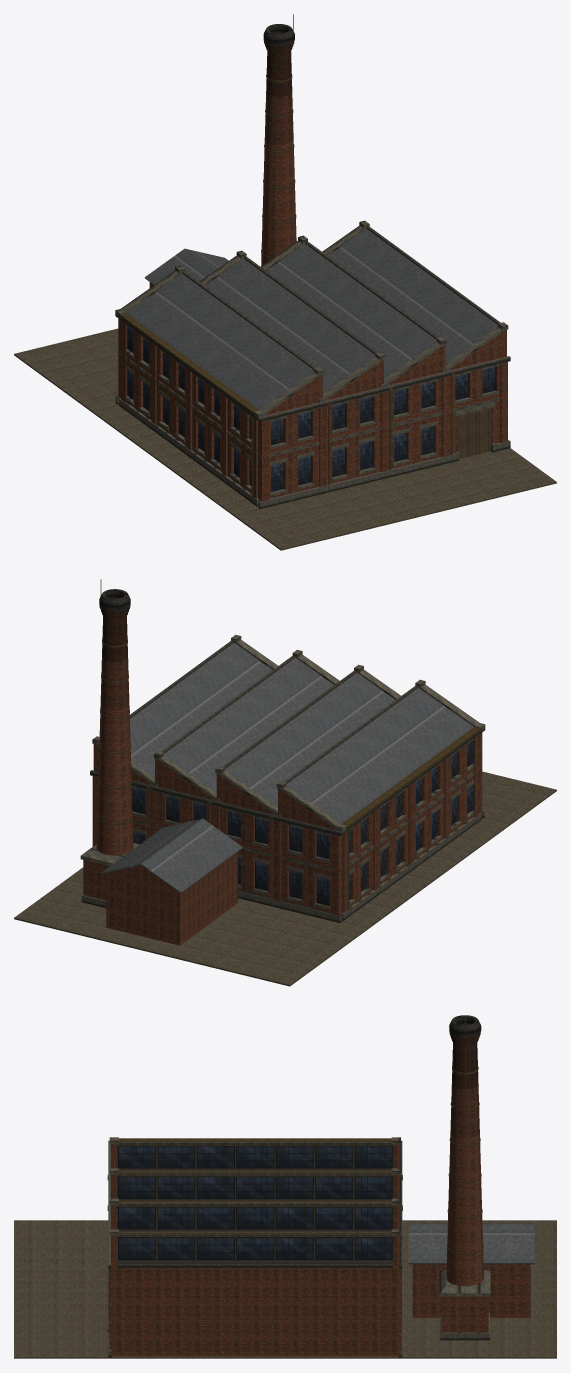
Rendered from no-1-quiet-factory.glb.
3 renders of one model, top to bottom at view 1: azimuth 30°, elevation 25°; view 2: azimuth 150°, elevation 25°; view 3: azimuth 270°, elevation 25°, orthographic.
Visible parts, largest first — view 1: no-1-mill-roof, no-1-mill-walls, no-1-yard-setts, no-1-mill-stonework, no-1-chimney, no-1-mill-ironwork, no-1-boiler-house-building, no-1-loading-door-right, no-1-loading-door-left; view 2: no-1-mill-roof, no-1-yard-setts, no-1-mill-walls, no-1-boiler-house-building, no-1-mill-stonework, no-1-chimney, no-1-mill-ironwork; view 3: no-1-mill-walls, no-1-yard-setts, no-1-chimney, no-1-boiler-house-building, no-1-mill-roof, no-1-mill-ironwork, no-1-mill-stonework, no-1-north-light-4-panel-7, no-1-north-light-4-panel-5, no-1-north-light-4-panel-4, no-1-north-light-4-panel-2, no-1-north-light-2-panel-4 (+23 smaller).
Part boxes in pixels (x1=…): no-1-mill-roof: x1=127, y1=226, x2=500, y2=409; no-1-mill-walls: x1=118, y1=318, x2=507, y2=501; no-1-yard-setts: x1=14, y1=328, x2=556, y2=550; no-1-mill-stonework: x1=115, y1=220, x2=510, y2=508; no-1-chimney: x1=261, y1=14, x2=296, y2=266; no-1-mill-ironwork: x1=119, y1=313, x2=454, y2=495; no-1-boiler-house-building: x1=144, y1=248, x2=228, y2=287; no-1-loading-door-right: x1=474, y1=407, x2=491, y2=454; no-1-loading-door-left: x1=458, y1=412, x2=474, y2=458; no-1-mill-roof: x1=129, y1=640, x2=473, y2=823; no-1-yard-setts: x1=14, y1=771, x2=556, y2=986; no-1-mill-walls: x1=92, y1=732, x2=482, y2=915; no-1-boiler-house-building: x1=101, y1=818, x2=242, y2=945; no-1-mill-stonework: x1=90, y1=634, x2=485, y2=922; no-1-chimney: x1=80, y1=579, x2=139, y2=907; no-1-mill-ironwork: x1=146, y1=727, x2=481, y2=909; no-1-mill-walls: x1=109, y1=1144, x2=401, y2=1356; no-1-yard-setts: x1=14, y1=1220, x2=556, y2=1358; no-1-chimney: x1=439, y1=1015, x2=490, y2=1340; no-1-boiler-house-building: x1=408, y1=1223, x2=534, y2=1317; no-1-mill-roof: x1=117, y1=1141, x2=393, y2=1263; no-1-mill-ironwork: x1=107, y1=1138, x2=402, y2=1321; no-1-mill-stonework: x1=107, y1=1137, x2=402, y2=1357; no-1-north-light-4-panel-7: x1=354, y1=1237, x2=392, y2=1260; no-1-north-light-4-panel-5: x1=275, y1=1237, x2=313, y2=1260; no-1-north-light-4-panel-4: x1=236, y1=1237, x2=274, y2=1260; no-1-north-light-4-panel-2: x1=157, y1=1237, x2=195, y2=1260; no-1-north-light-2-panel-4: x1=236, y1=1176, x2=274, y2=1199.
Size of the model in its own units: 24.7 by 27.1 by 41.4.
17 materials, 15 textured.
